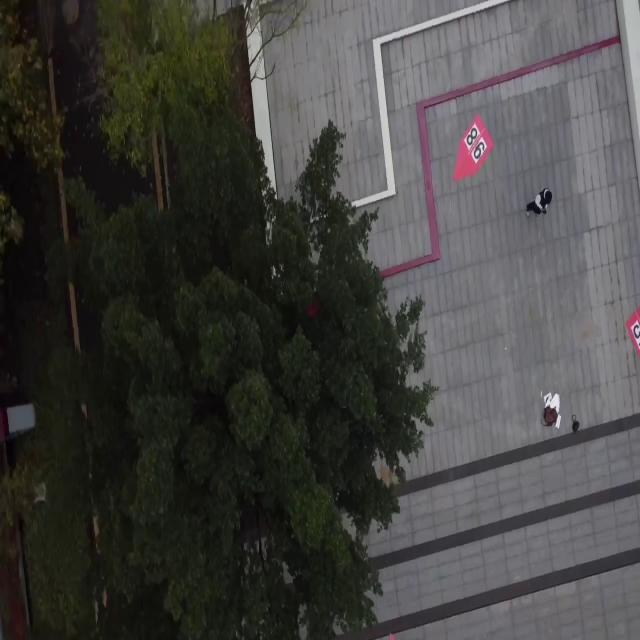-sign-: (452, 112, 494, 182), (626, 304, 640, 366)
